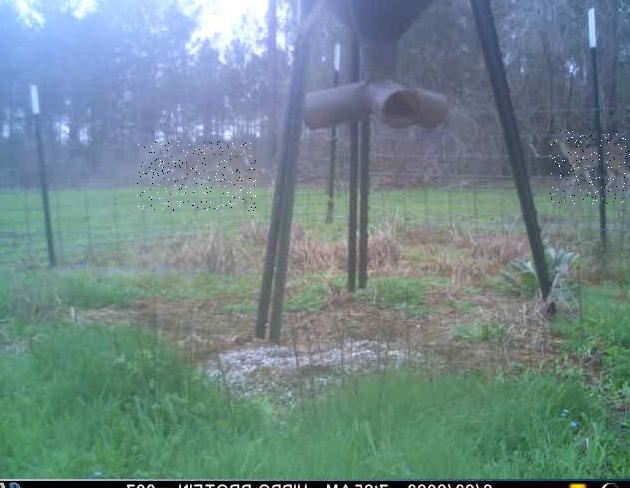Deer: (136, 141, 255, 211), (549, 129, 629, 204)
